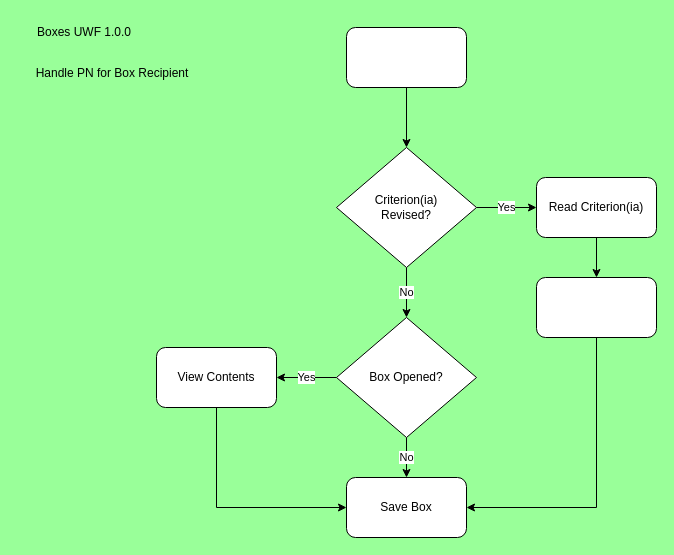
The diagram is 674 pixels wide and 555 high, and some of its shapes have lost their labels. Each missing label, with the box of its shape:
Load Box: (346, 26, 466, 88)
Record Criterion(ia) Satisfied: (536, 276, 656, 338)
